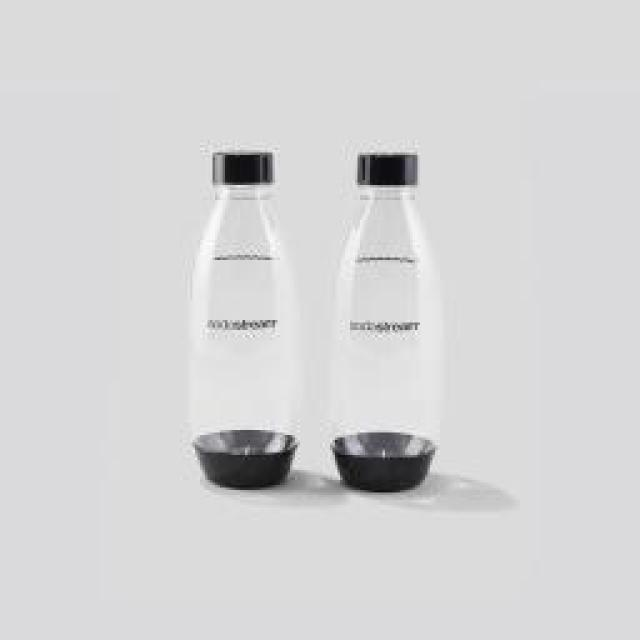bottle: (187, 153, 302, 490), (332, 153, 437, 495)
